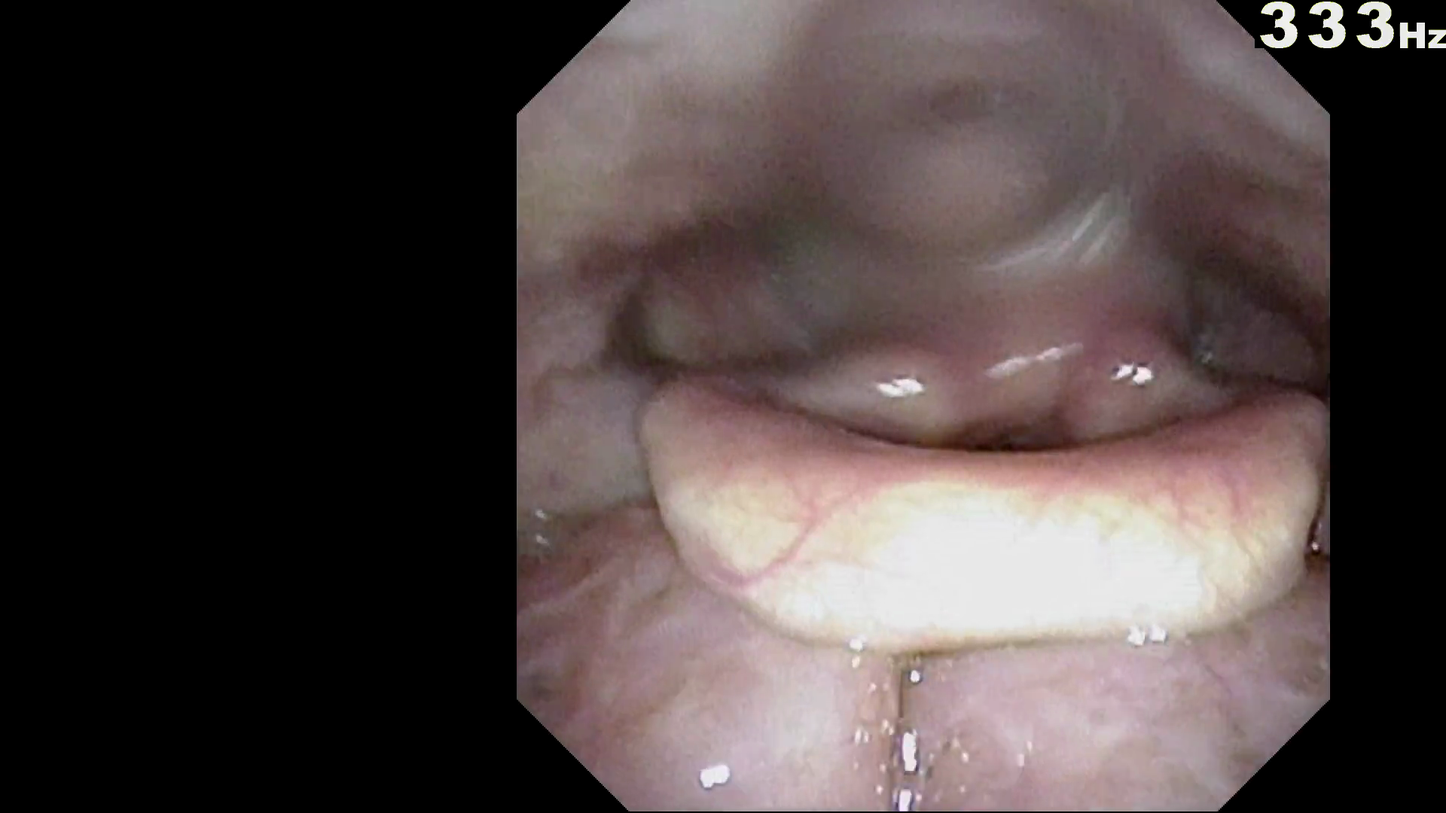epiglottis: (689, 403, 1298, 628)
